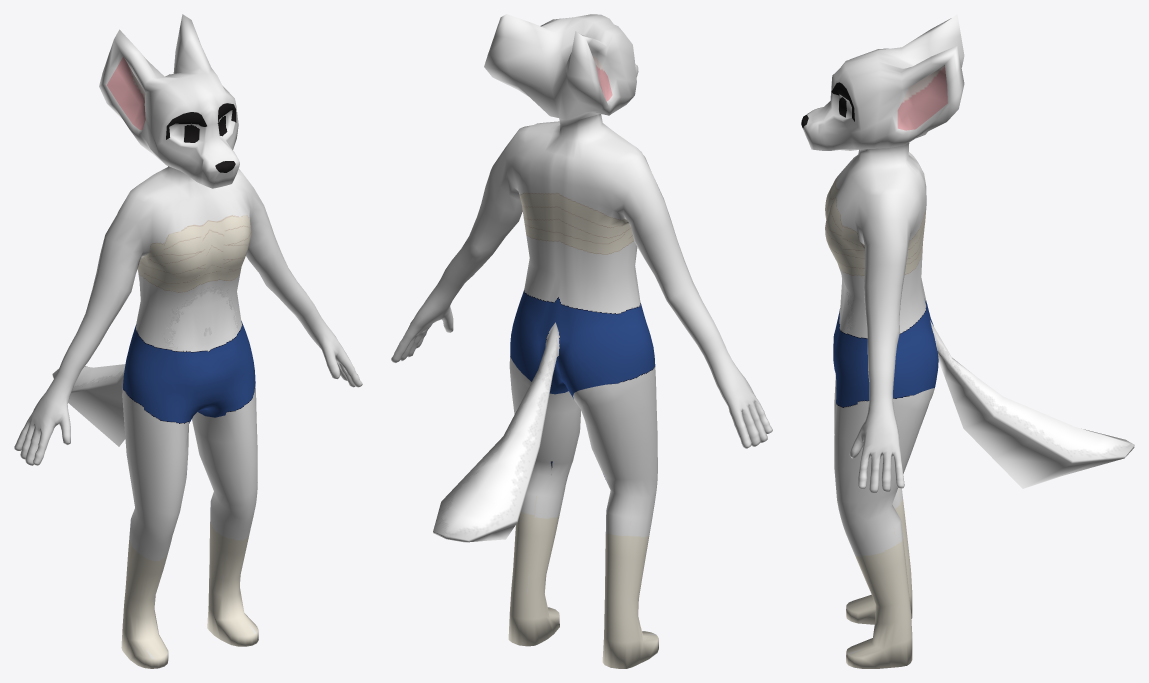
The picture shows the model from 3 angles, left to right: view 1: azimuth 30°, elevation 25°; view 2: azimuth 150°, elevation 25°; view 3: azimuth 270°, elevation 25°; orthographic projection. The views are drawn at different scales.
Visible parts, largest first — view 1: body; view 2: body; view 3: body.
Boxes of the visible parts, left/top/right/bottom form: body: left=14, top=14, right=362, bottom=668; body: left=391, top=14, right=772, bottom=668; body: left=801, top=14, right=1134, bottom=668.
Bounding box in the file's own units: 188 × 324 × 161.
1 material, 1 textured.
